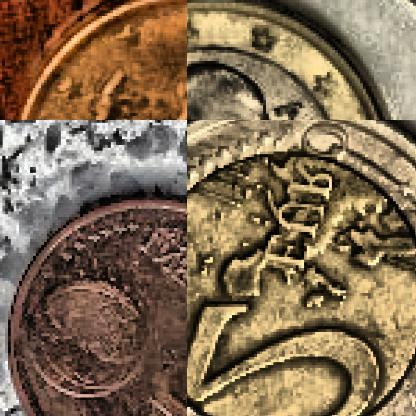coin: (187, 120, 415, 415), (0, 190, 186, 415), (187, 0, 395, 119), (4, 0, 186, 119)
